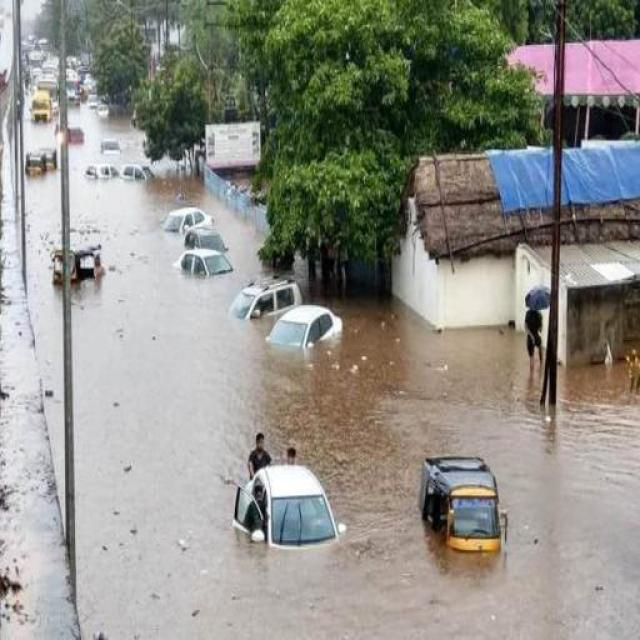puddle: (77, 295, 247, 630), (216, 558, 640, 637), (205, 357, 540, 453), (98, 178, 178, 547), (511, 408, 640, 602)
